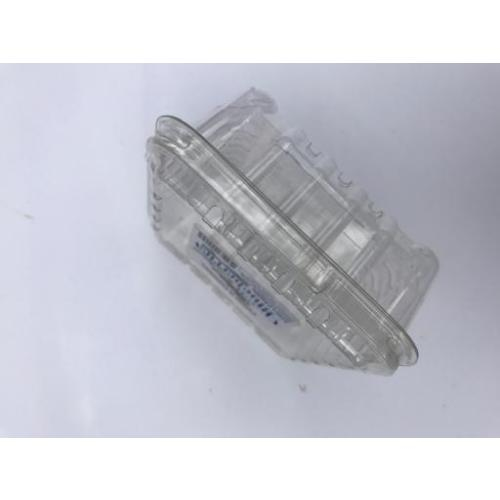plastic: (146, 89, 441, 371)
